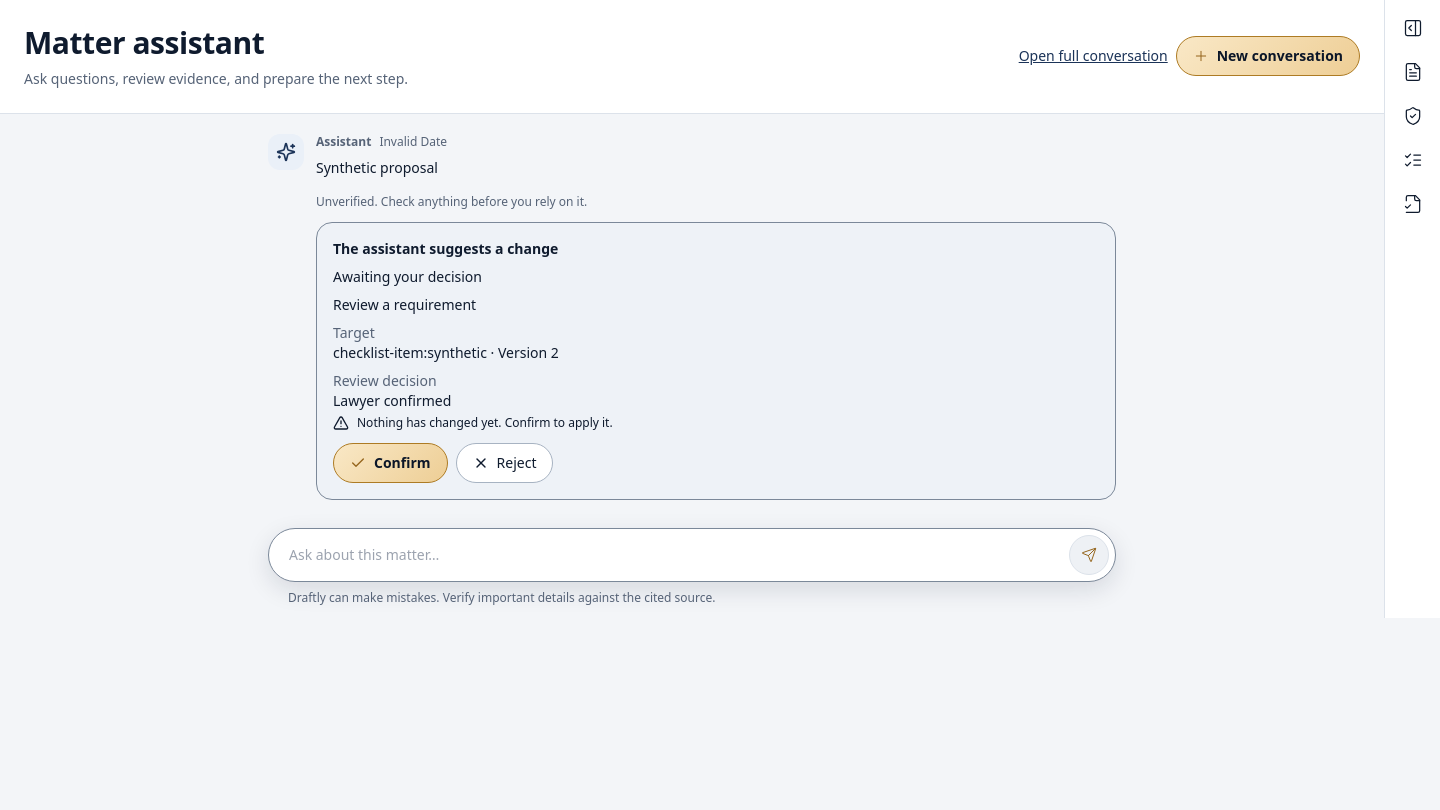
Test: recorded work after interrupted responses › refreshes a stale proposal after a rejected confirmation and never resubmits it
Click the button "Confirm" at x=390, y=462, box [333, 442, 448, 482]
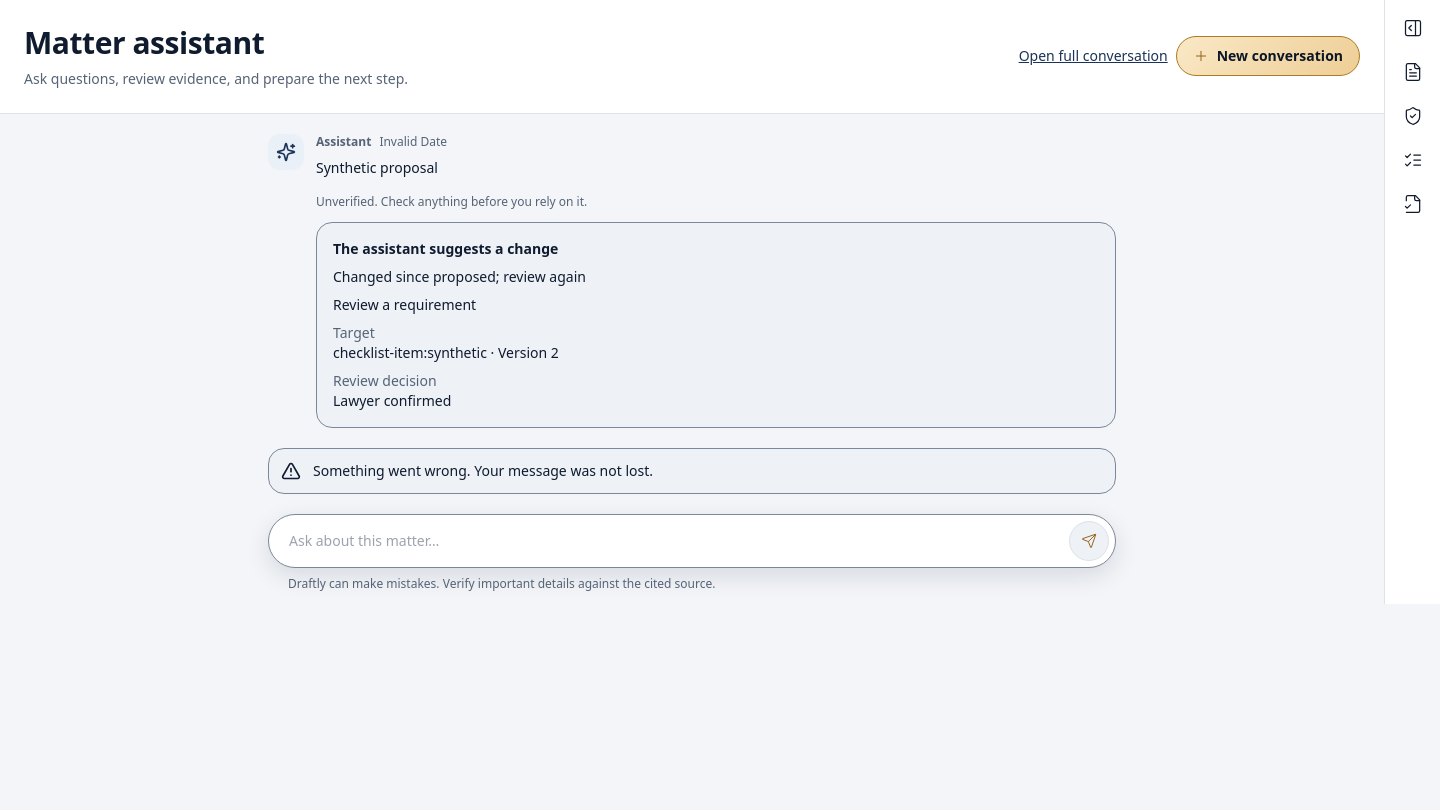
Check: the text "Changed since proposed; review again" is shown, box [333, 266, 586, 286]
